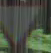Give way: (1, 2, 42, 51)
